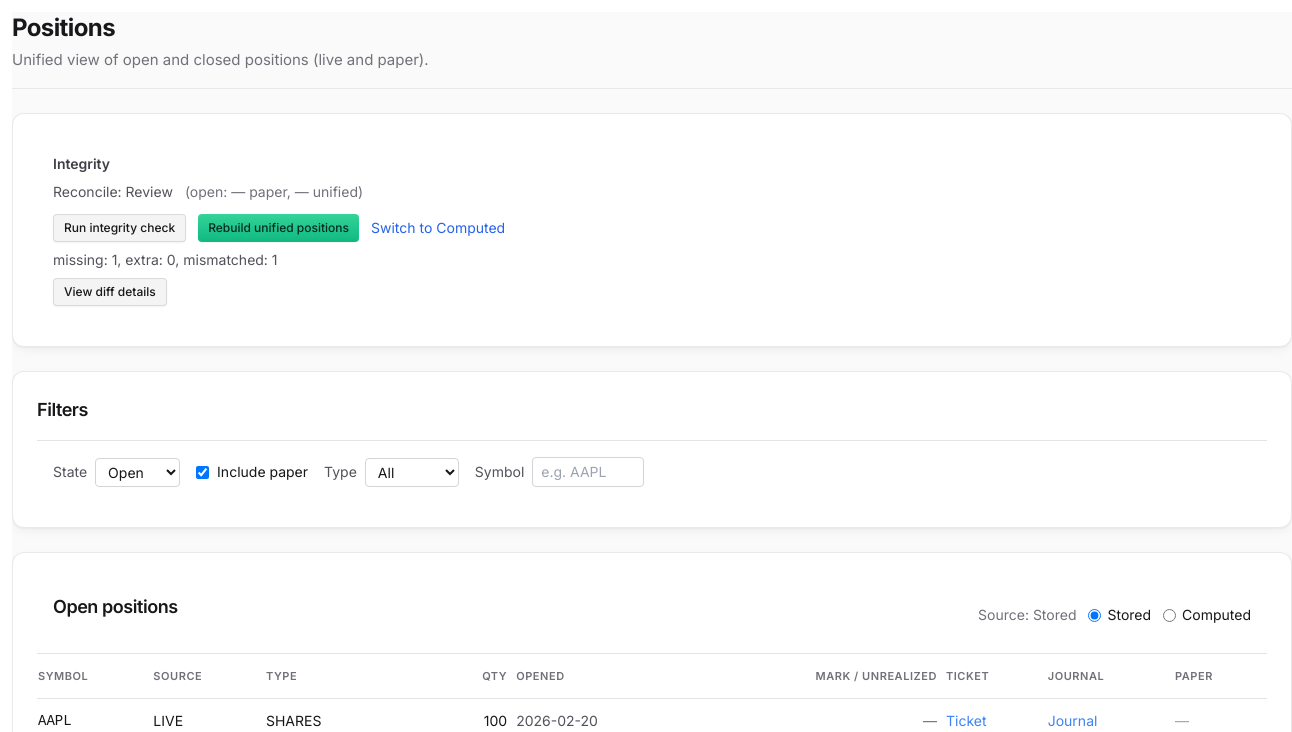
Scenario: PositionsPage › R29.1: when source=db and reconcile status Review, integrity strip shows Review and diff counts; View diff details expands list
Expected: the element with test id "positions-integrity-strip" is shown, [12,113,1291,347]
Expected: the text with test id "positions-integrity-status" reads "Review", [126,183,173,200]
Click the button with test id "positions-integrity-view-diff-details".
click(110, 292)  # box [53,278,167,306]
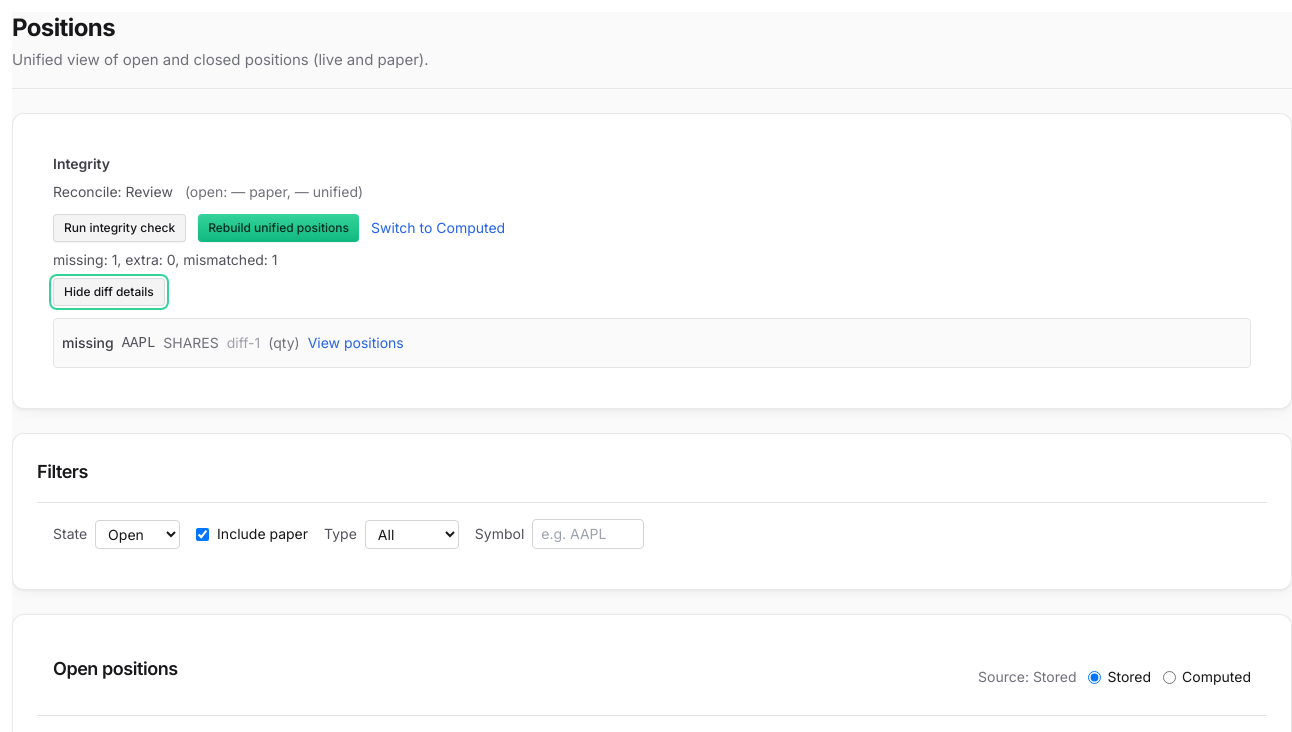
Expected: the list with test id "positions-integrity-diff-list" is shown, [53,318,1251,368]
Expected: the text "missing" is shown, [62,333,114,353]
Expected: the text "AAPL" is shown, [122,333,155,353]
